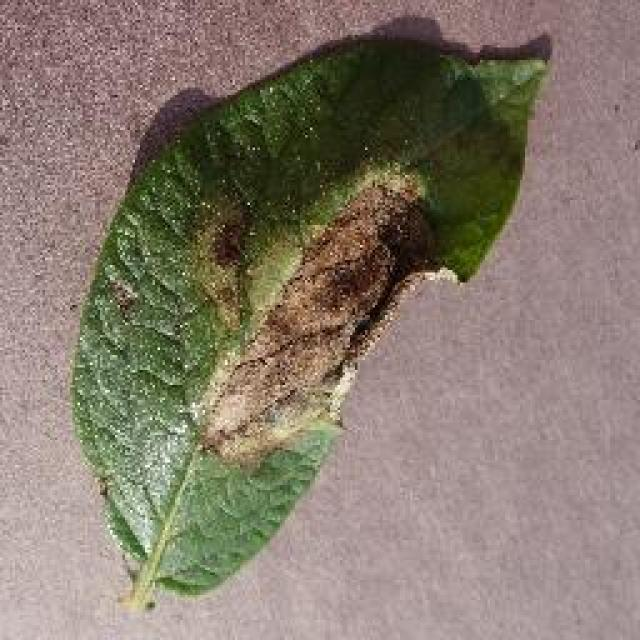Potato: (68, 15, 552, 610)
